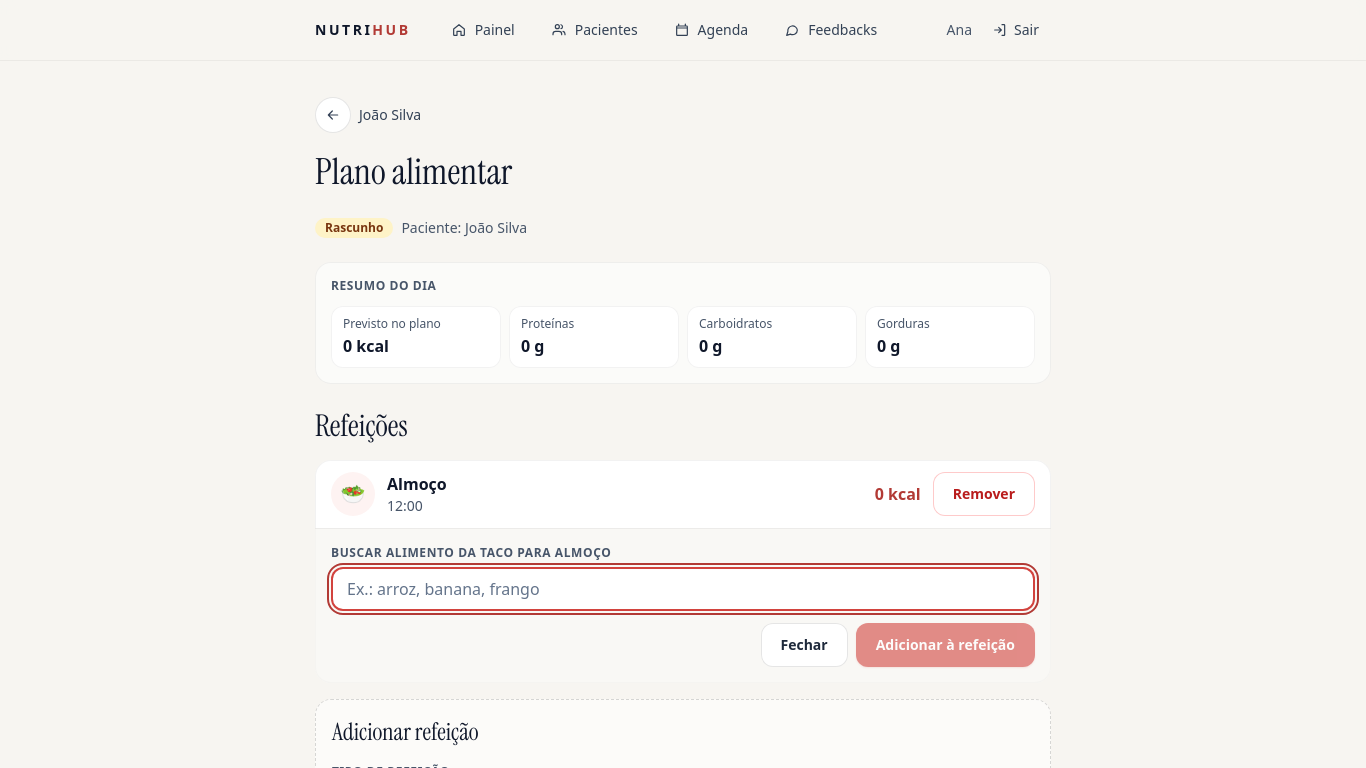
Test: ConstrutorDePlano — rascunho (RF-04) › prescreve em medida caseira: abre em "unidade" e mostra a conversão para gramas
Type "banana" into the search field labelled "Buscar alimento da TACO para Almoço".
click(683, 589); type("banana")  # box [331,567,1035,611]
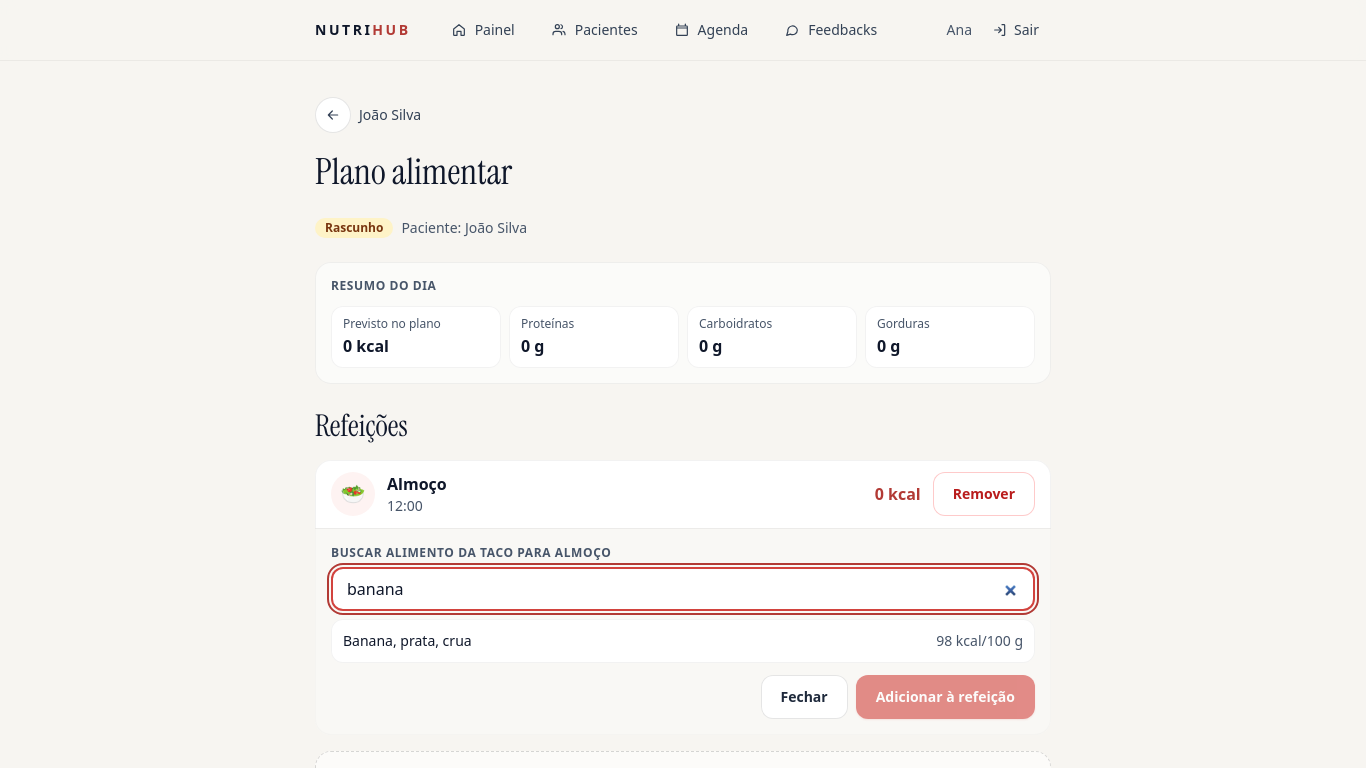
Click the button "Banana, prata, crua 98 kcal/100 g".
click(407, 640)  # box [331,619,1035,663]
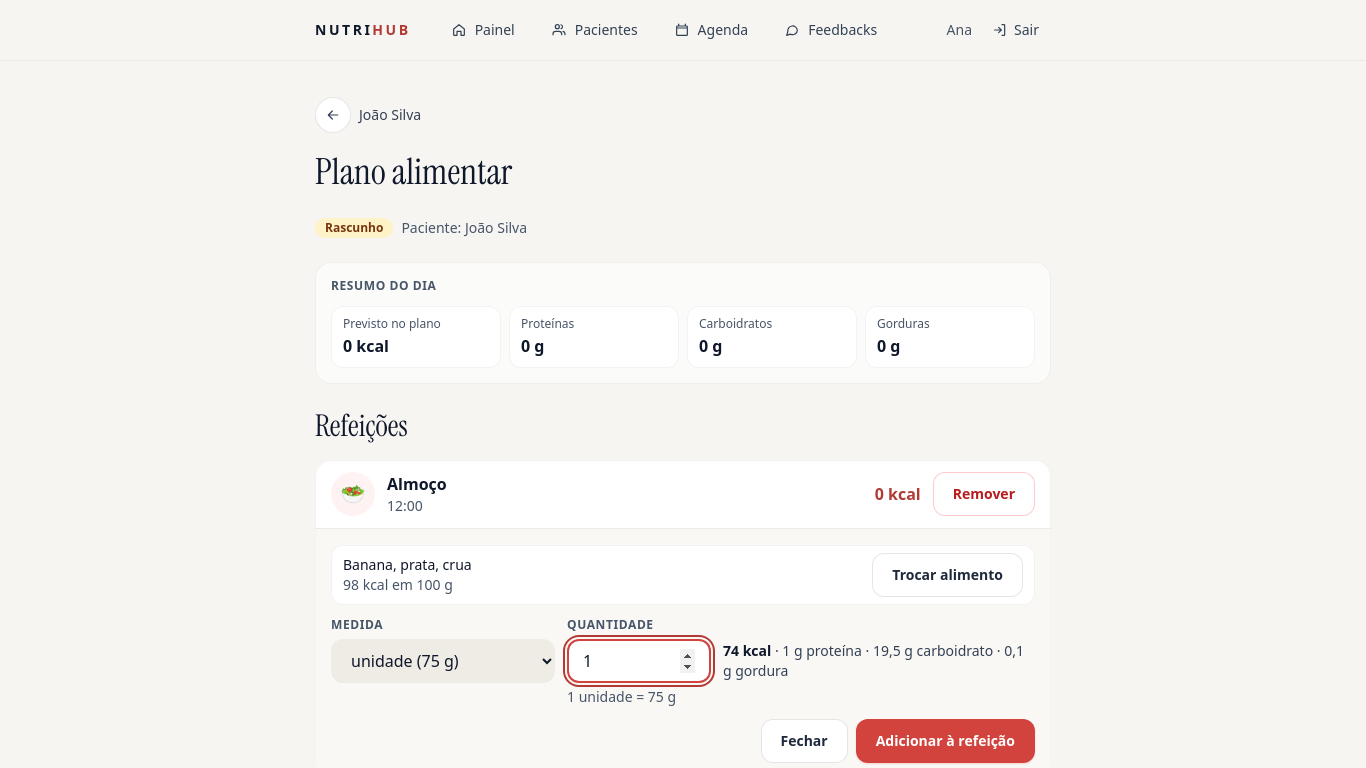
Now the dropdown labelled "Medida" shows "unidade (75 g)", box [331,639,555,683]
Now the number field labelled "Quantidade" holds "1"
Replace the text in the number field labelled "Quantidade" with "2" at coordinates (639, 661), box [567,639,711,683]
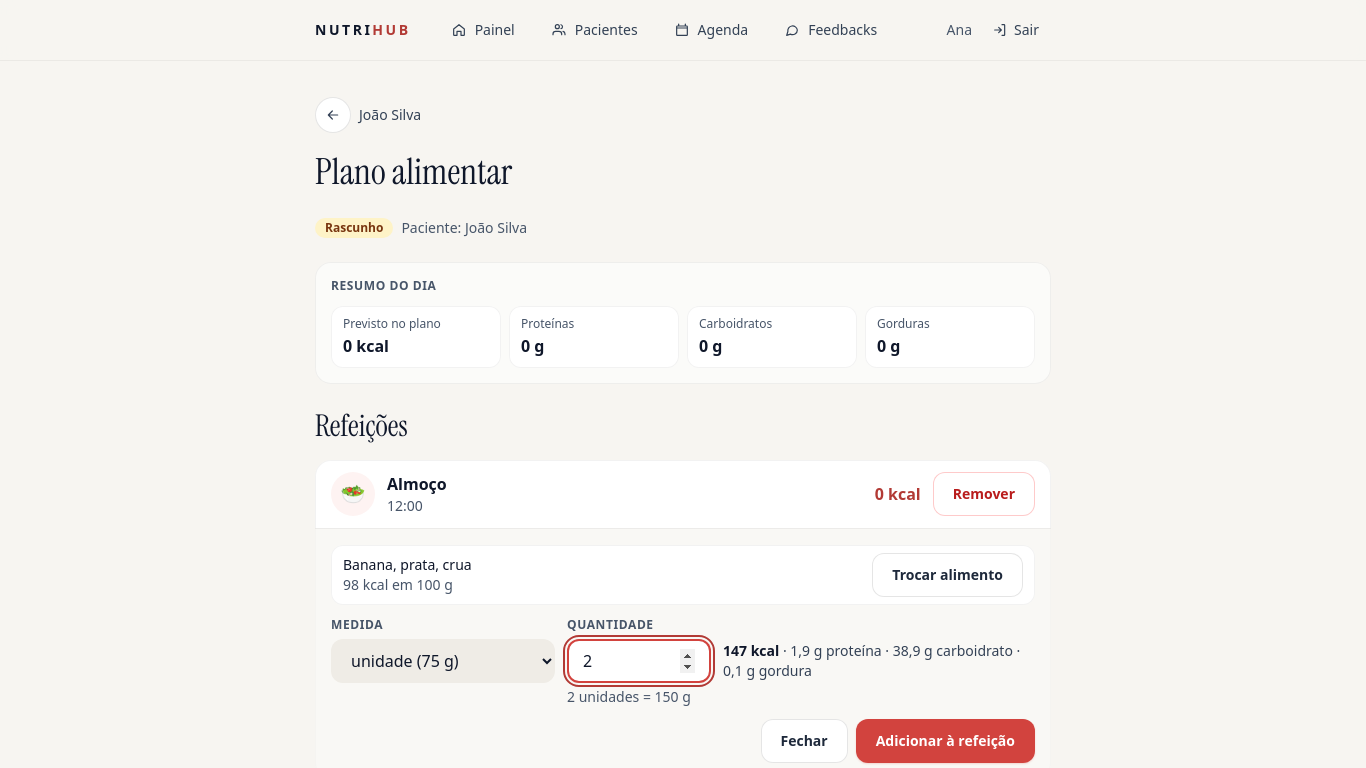
Now the text "2 unidades = 150 g" is shown, box [567,687,711,707]
Now the text "147 kcal" is shown, box [723,641,779,660]
Click the button "Adicionar à refeição".
click(945, 741)  # box [856,719,1035,763]
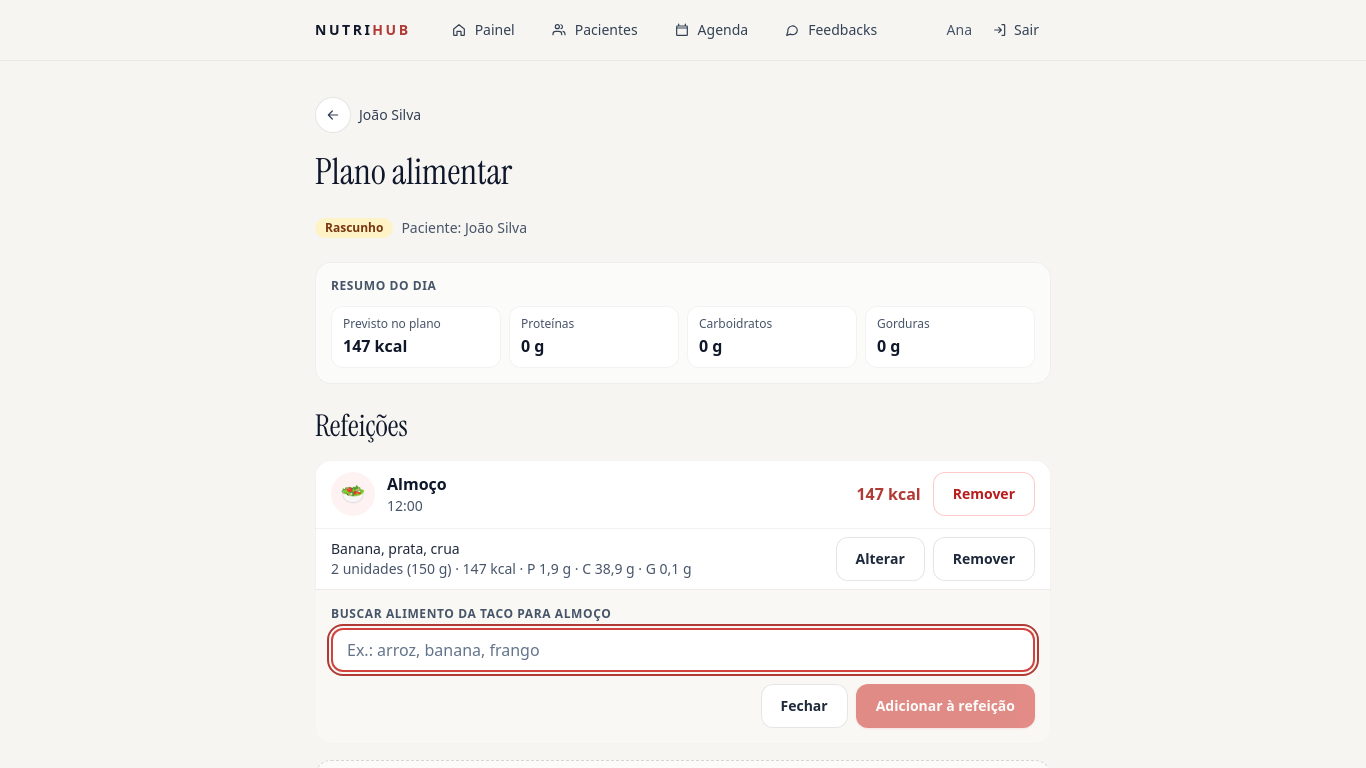
Now the text "2 unidades (150 g) · 147 kcal · P 1,9 g · C 38,9 g · G 0,1 g" is shown, box [331,559,692,578]
